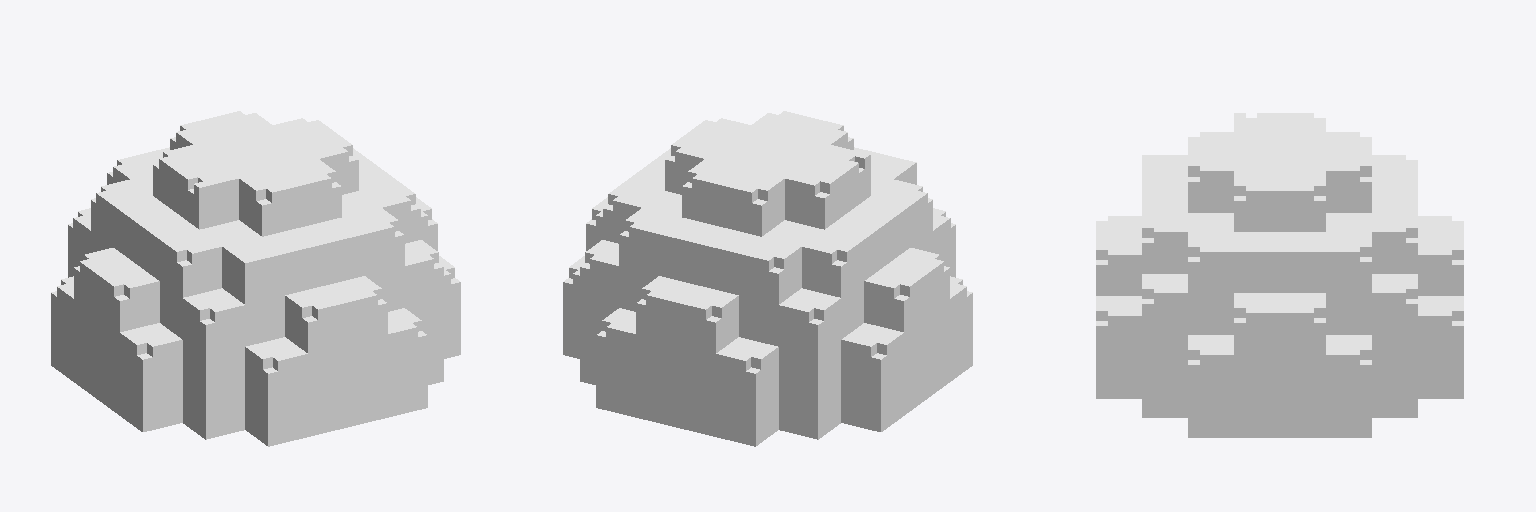
Rendered from Busch.obj.
3 renders of one model, left to right at view 1: azimuth 30°, elevation 25°; view 2: azimuth 150°, elevation 25°; view 3: azimuth 270°, elevation 25°, orthographic.
Visible parts, largest first — view 1: object 1; view 2: object 1; view 3: object 1.
Part boxes in pixels (x1,y1,x2,y2): object 1: (51,111,460,446); object 1: (563,111,972,446); object 1: (1096,113,1463,437).
Bounding box in the file's own units: 3.2 × 2 × 3.2.